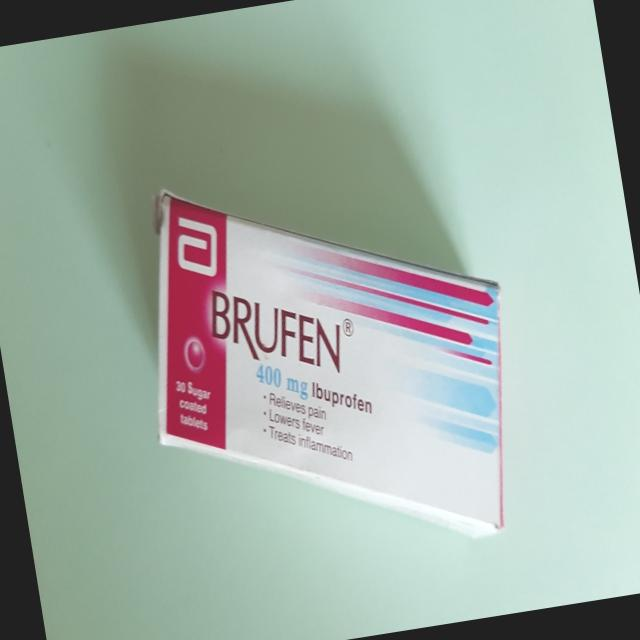medicine_packaging: (104, 100, 562, 616)
